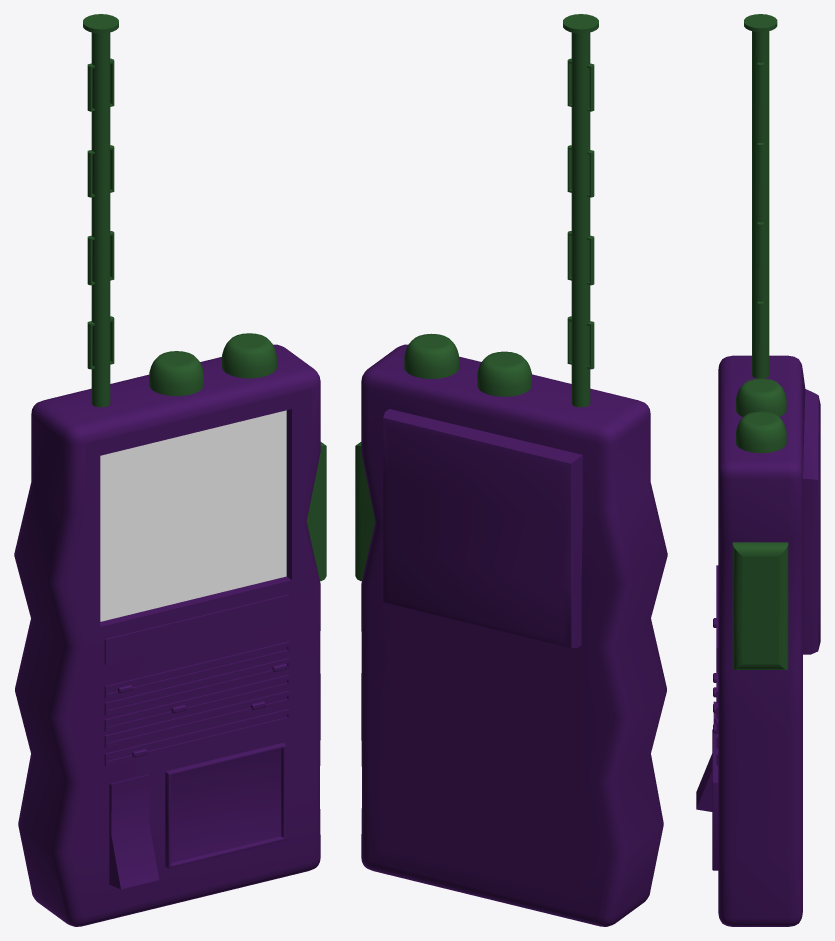
Rendered from Scanner_Utility.fbx.
The picture shows the model from 3 angles, left to right: view 1: azimuth 30°, elevation 25°; view 2: azimuth 150°, elevation 25°; view 3: azimuth 270°, elevation 25°; orthographic projection. The views are drawn at different scales.
Visible parts, largest first — view 1: Scanner, ScannerScreen, Antenna, Adjustor_1, Adjustor_2, Main_Button; view 2: Scanner, Antenna, Adjustor_2, Adjustor_1, Main_Button; view 3: Scanner, Main_Button, Antenna, Adjustor_1, Adjustor_2.
Boxes of the visible parts, <box> form: Scanner: <box>14,344,320,926</box>; ScannerScreen: <box>100,410,286,621</box>; Antenna: <box>83,14,118,407</box>; Adjustor_1: <box>222,333,276,378</box>; Adjustor_2: <box>149,351,203,396</box>; Main_Button: <box>306,442,326,581</box>; Scanner: <box>361,344,667,926</box>; Antenna: <box>563,14,598,407</box>; Adjustor_2: <box>477,351,531,396</box>; Adjustor_1: <box>404,333,458,378</box>; Main_Button: <box>355,442,375,581</box>; Scanner: <box>696,355,820,926</box>; Main_Button: <box>732,542,788,669</box>; Antenna: <box>744,14,777,378</box>; Adjustor_1: <box>736,411,786,453</box>; Adjustor_2: <box>736,378,786,416</box>.
Size of the model in its own units: 5.1 by 15.18 by 2.09.
